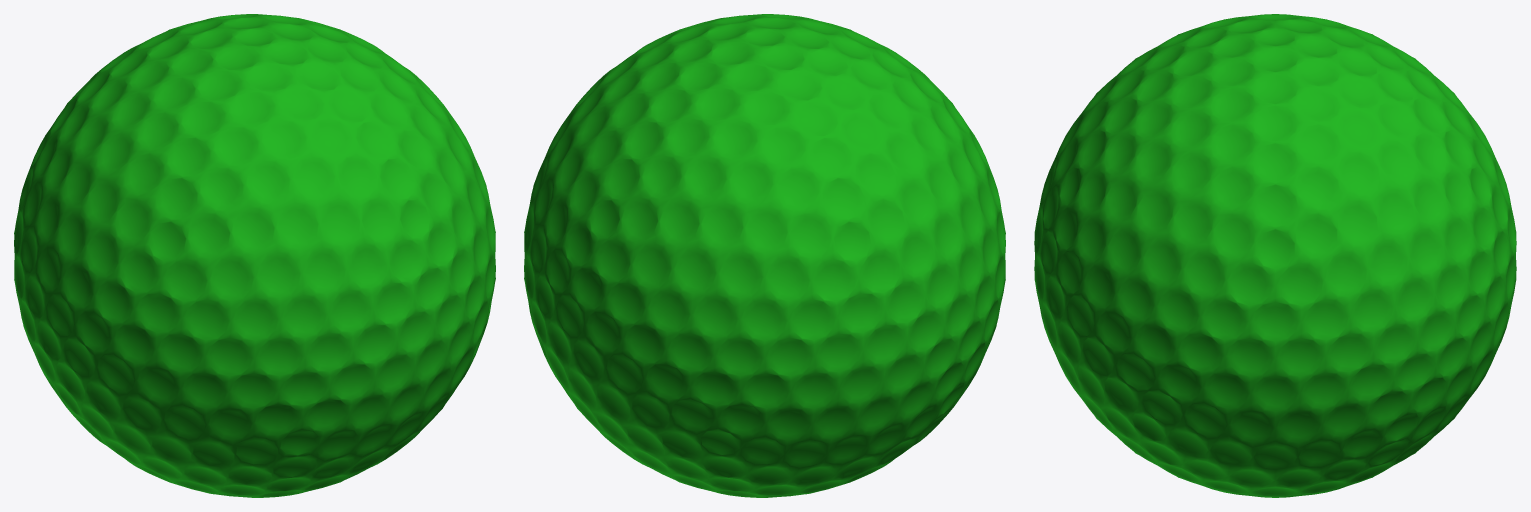
File: Golf_Ball.FBX
3 views of the same model, side by side, from view 1: azimuth 30°, elevation 25°; view 2: azimuth 150°, elevation 25°; view 3: azimuth 270°, elevation 25° (orthographic).
Parts seen in each view (by area): view 1: GeoSphere001_Dml001; view 2: GeoSphere001_Dml001; view 3: GeoSphere001_Dml001.
Part boxes in pixels (bbox=[...]): GeoSphere001_Dml001: bbox=[14, 14, 495, 497]; GeoSphere001_Dml001: bbox=[524, 14, 1005, 497]; GeoSphere001_Dml001: bbox=[1034, 14, 1516, 497].
Size of the model in its own units: 4.21 by 4.2 by 4.2.
